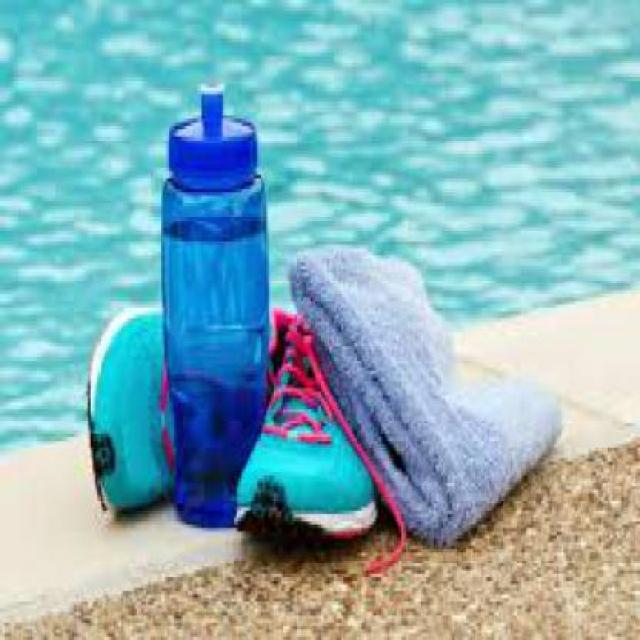Drinking: (142, 66, 283, 532)
